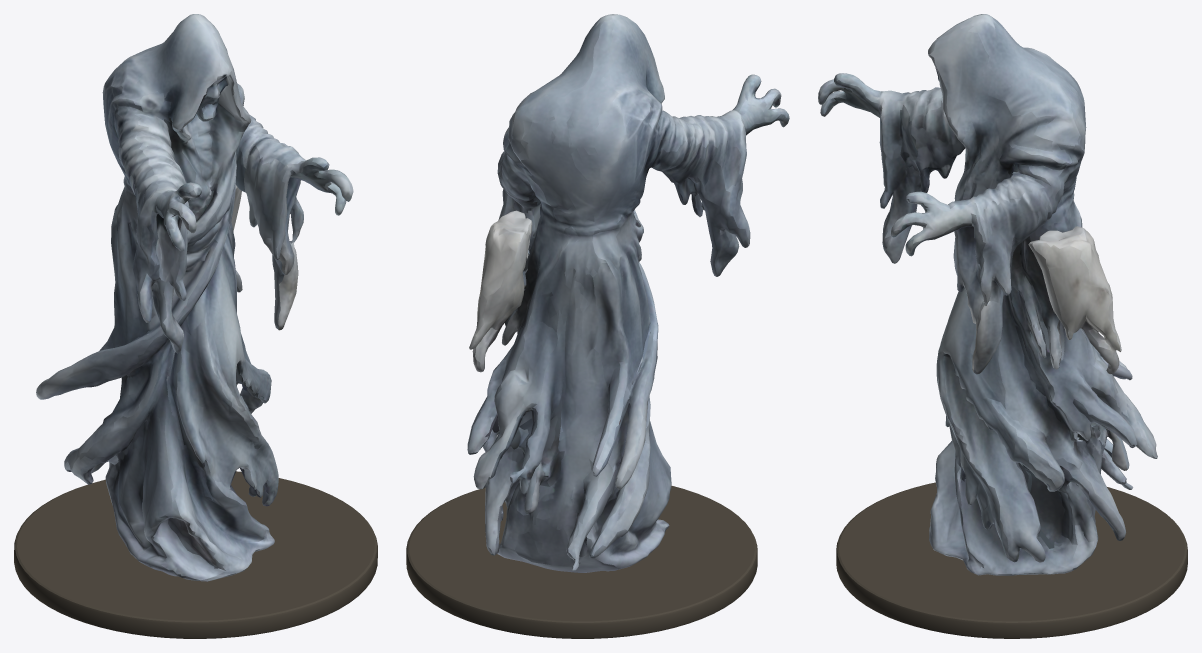
The model's file is ghost.glb.
3 views of the same model, side by side, from view 1: azimuth 30°, elevation 25°; view 2: azimuth 150°, elevation 25°; view 3: azimuth 270°, elevation 25° (orthographic). The views are drawn at different scales.
Visible parts, largest first — view 1: ghost_body, ghost_round_base; view 2: ghost_body, ghost_round_base; view 3: ghost_body, ghost_round_base.
Boxes of the visible parts, bbox=[...] form: ghost_body: bbox=[36, 14, 353, 581]; ghost_round_base: bbox=[14, 471, 377, 638]; ghost_body: bbox=[467, 14, 789, 572]; ghost_round_base: bbox=[406, 485, 757, 638]; ghost_body: bbox=[818, 14, 1157, 575]; ghost_round_base: bbox=[836, 482, 1187, 638].
Size of the model in its own units: 1 by 1.71 by 1.05.
Materials: 2 (1 with a texture image).
